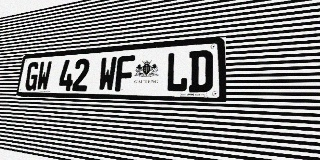2: (72, 58, 90, 91)
4: (58, 59, 75, 91)
D: (188, 50, 213, 92)
F: (115, 55, 135, 92)
G: (24, 62, 40, 91)
L: (165, 51, 189, 92)
W: (98, 56, 117, 91), (36, 61, 52, 91)
